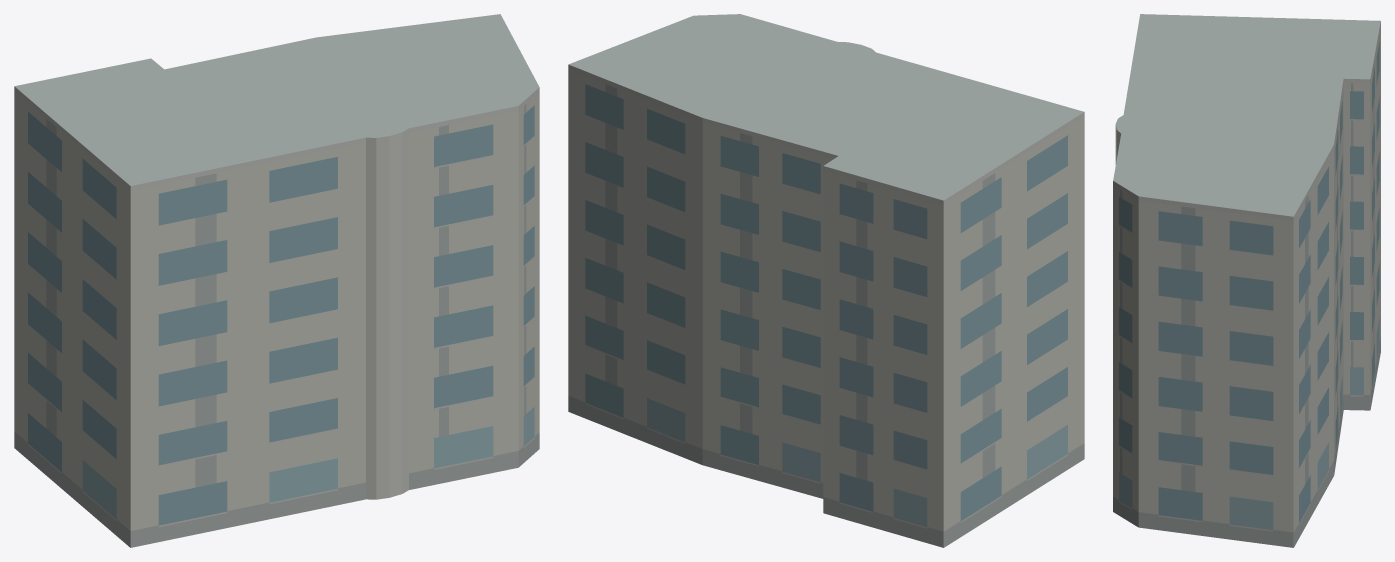
Rendered from survey-upis-32876106.glb.
3 views of the same model, side by side, from view 1: azimuth 30°, elevation 25°; view 2: azimuth 150°, elevation 25°; view 3: azimuth 270°, elevation 25° (orthographic). The views are drawn at different scales.
Parts seen in each view (by area): view 1: survey-upis-32876106.tmp; view 2: survey-upis-32876106.tmp; view 3: survey-upis-32876106.tmp.
Part boxes in pixels (<box>): survey-upis-32876106.tmp: <box>14,14,539,547</box>; survey-upis-32876106.tmp: <box>568,14,1084,547</box>; survey-upis-32876106.tmp: <box>1113,14,1380,547</box>.
Size of the model in its own units: 23.64 by 18 by 13.2.
